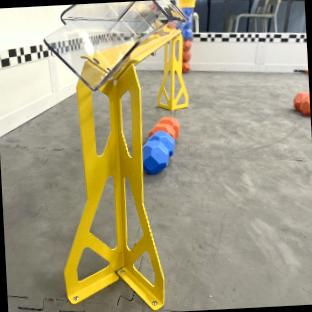V5_BLUE: (142, 130, 173, 172)
V5_RED: (149, 116, 178, 137), (293, 91, 310, 114)
